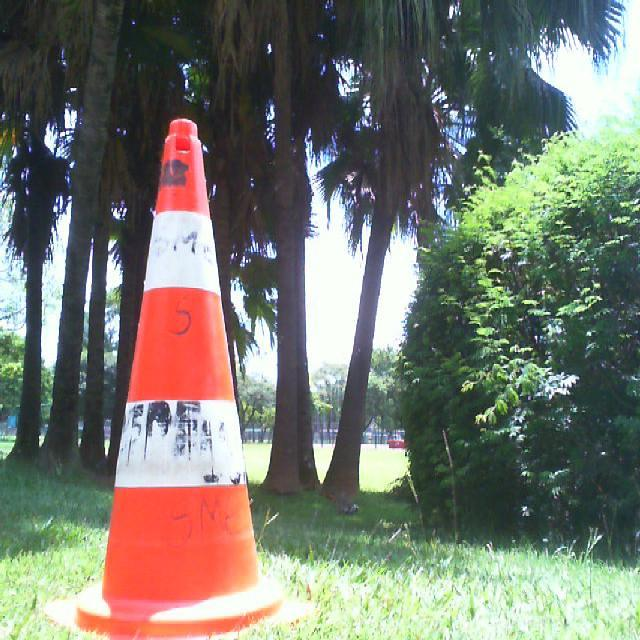Cone: (44, 118, 316, 640)
